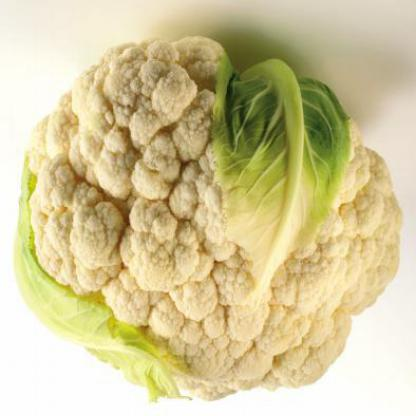cauliflower: (26, 56, 393, 397)
